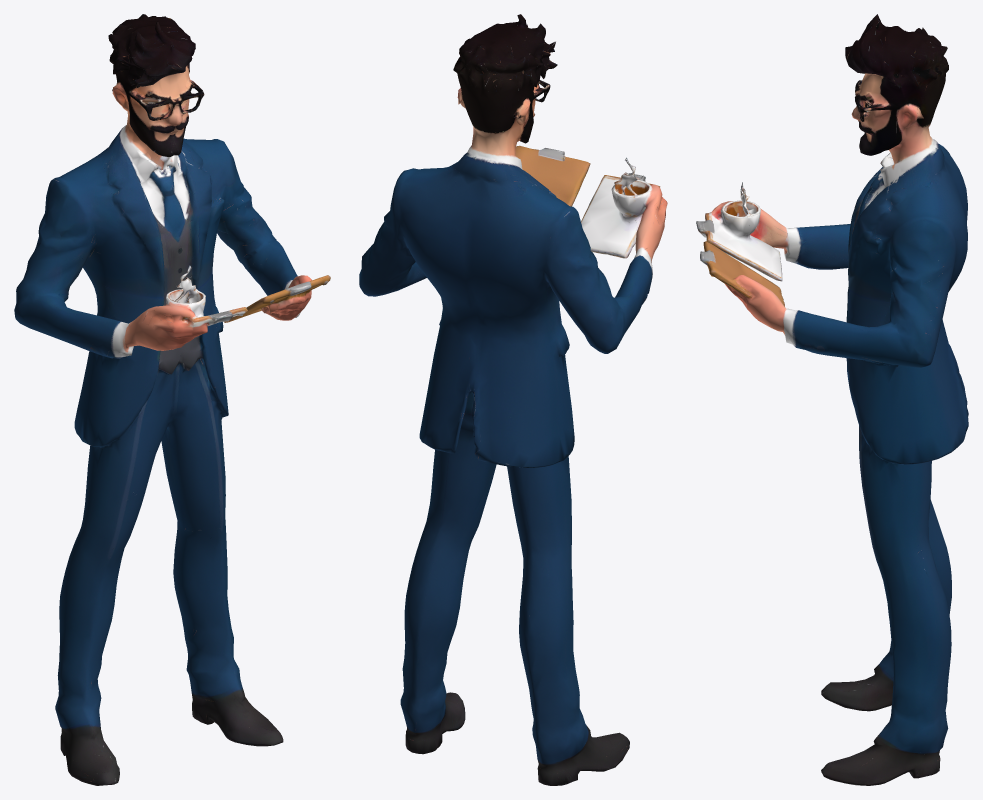
Rendered from support.glb.
The picture shows the model from 3 angles, left to right: view 1: azimuth 30°, elevation 25°; view 2: azimuth 150°, elevation 25°; view 3: azimuth 270°, elevation 25°; orthographic projection. The views are drawn at different scales.
Parts seen in each view (by area): view 1: Mesh_0; view 2: Mesh_0; view 3: Mesh_0.
Boxes of the visible parts, bbox=[...] form: Mesh_0: bbox=[14, 14, 330, 785]; Mesh_0: bbox=[359, 14, 667, 785]; Mesh_0: bbox=[696, 14, 968, 785].
Size of the model in its own units: 0.7096 by 1.91 by 0.6601.
Materials: 1 (1 with a texture image).
